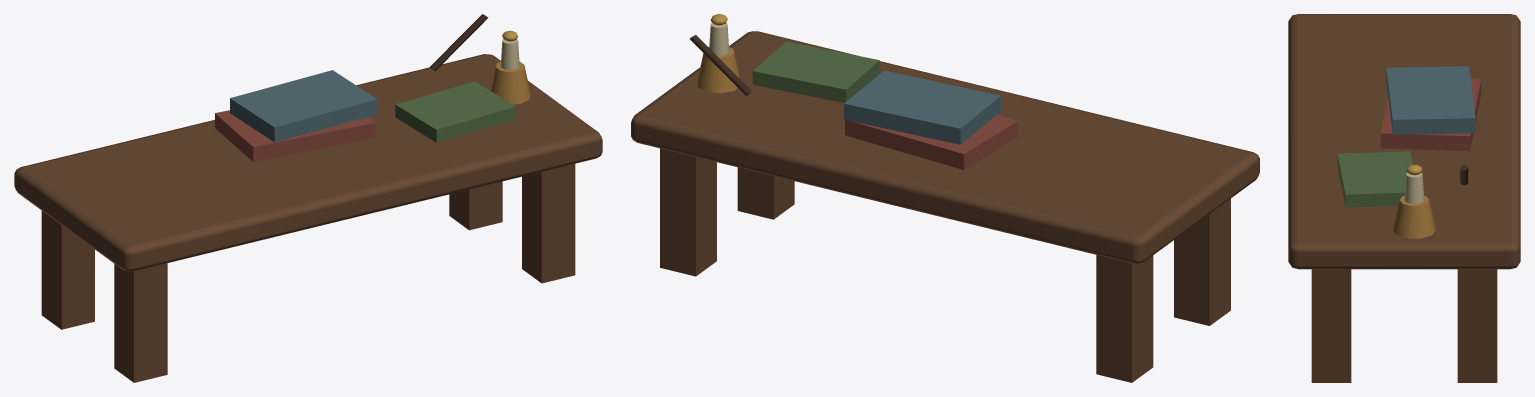
File: candle_desk.glb
3 views of the same model, side by side, from view 1: azimuth 30°, elevation 25°; view 2: azimuth 150°, elevation 25°; view 3: azimuth 270°, elevation 25° (orthographic). The views are drawn at different scales.
Parts seen in each view (by area): view 1: candle_desk; view 2: candle_desk; view 3: candle_desk.
Part boxes in pixels (x1,y1,x2,y2): candle_desk: [14, 14, 602, 382]; candle_desk: [631, 14, 1259, 382]; candle_desk: [1288, 14, 1520, 382].
Size of the model in its own units: 2.4 by 1 by 1.
Materials: 1 (1 with a texture image).
